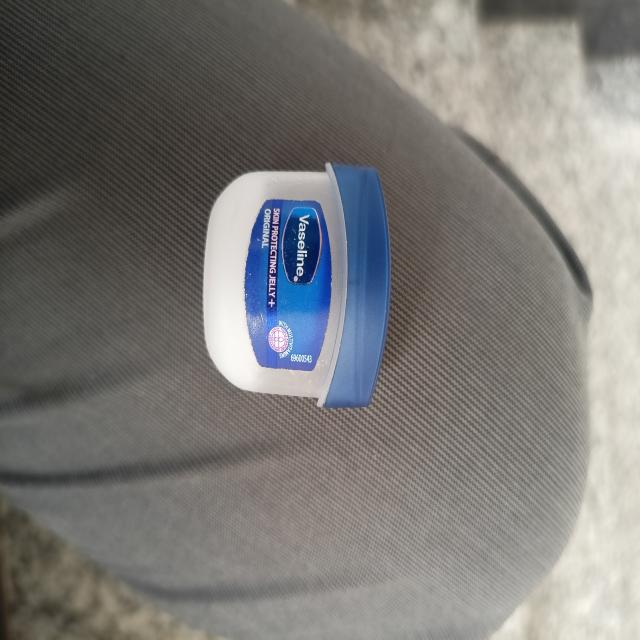plastic_box: (194, 154, 398, 422)
